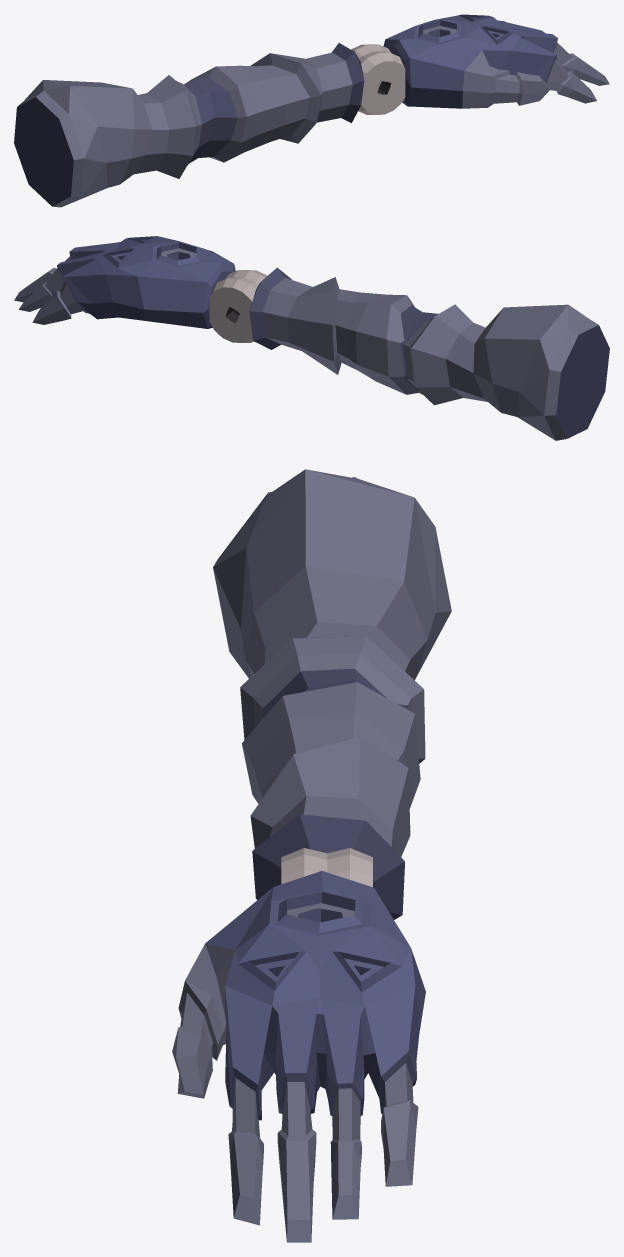
File: X-Gear.fbx
3 views of the same model, one above another, from view 1: azimuth 30°, elevation 25°; view 2: azimuth 150°, elevation 25°; view 3: azimuth 270°, elevation 25° (orthographic). The views are drawn at different scales.
Visible parts, largest first — view 1: hands.002, hands.001; view 2: hands.002, hands.001; view 3: hands.002, hands.001.
Boxes of the visible parts, x1,y1,x2,y2 form: hands.002: (14, 43, 364, 207); hands.001: (351, 14, 609, 114); hands.002: (249, 267, 609, 440); hands.001: (14, 236, 266, 342); hands.002: (213, 469, 451, 919); hands.001: (172, 848, 425, 1242).
Size of the model in its own units: 236 by 51.68 by 51.19.
Materials: 1 (1 with a texture image).
